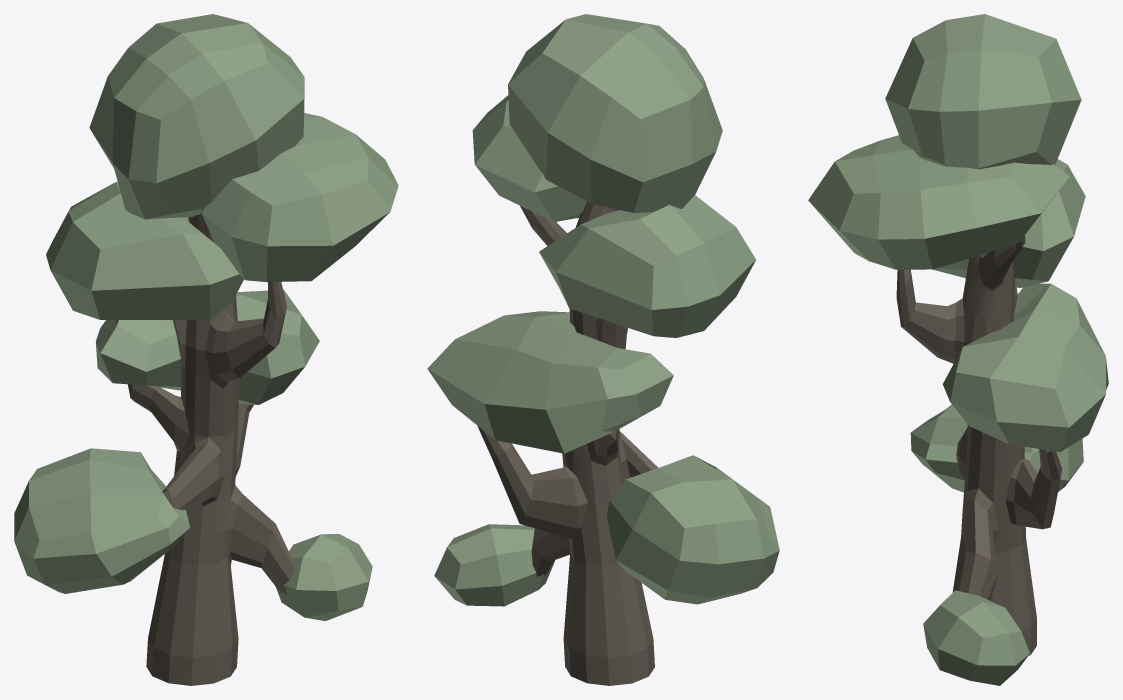
The model's file is Tree_3.fbx.
The picture shows the model from 3 angles, left to right: view 1: azimuth 30°, elevation 25°; view 2: azimuth 150°, elevation 25°; view 3: azimuth 270°, elevation 25°; orthographic projection. The views are drawn at different scales.
Parts seen in each view (by area): view 1: Tree2, pCube76, pCube72, pCube77, pCube74, pCube73, pCube75; view 2: pCube76, Tree2, pCube73, pCube74, pCube77, pCube75, pCube72; view 3: pCube76, Tree2, pCube72, pCube73, pCube75, pCube74, pCube77.
Boxes of the visible parts, left/top/right/bottom form: Tree2: left=128, top=213, right=294, bottom=685; pCube76: left=89, top=14, right=304, bottom=219; pCube72: left=201, top=113, right=398, bottom=282; pCube77: left=14, top=448, right=189, bottom=593; pCube74: left=46, top=182, right=243, bottom=319; pCube73: left=95, top=289, right=319, bottom=404; pCube75: left=276, top=534, right=372, bottom=620; pCube76: left=508, top=14, right=722, bottom=212; Tree2: left=477, top=201, right=658, bottom=685; pCube73: left=427, top=311, right=673, bottom=453; pCube74: left=539, top=195, right=755, bottom=337; pCube77: left=606, top=455, right=779, bottom=604; pCube75: left=434, top=524, right=555, bottom=606; pCube72: left=472, top=95, right=586, bottom=221; pCube76: left=885, top=14, right=1081, bottom=169; Tree2: left=896, top=235, right=1062, bottom=655; pCube72: left=808, top=135, right=1069, bottom=269; pCube73: left=942, top=283, right=1108, bottom=451; pCube75: left=923, top=590, right=1029, bottom=685; pCube74: left=932, top=159, right=1085, bottom=287; pCube77: left=910, top=404, right=1083, bottom=492.
Size of the model in its own units: 3.79 by 6.83 by 2.98.
